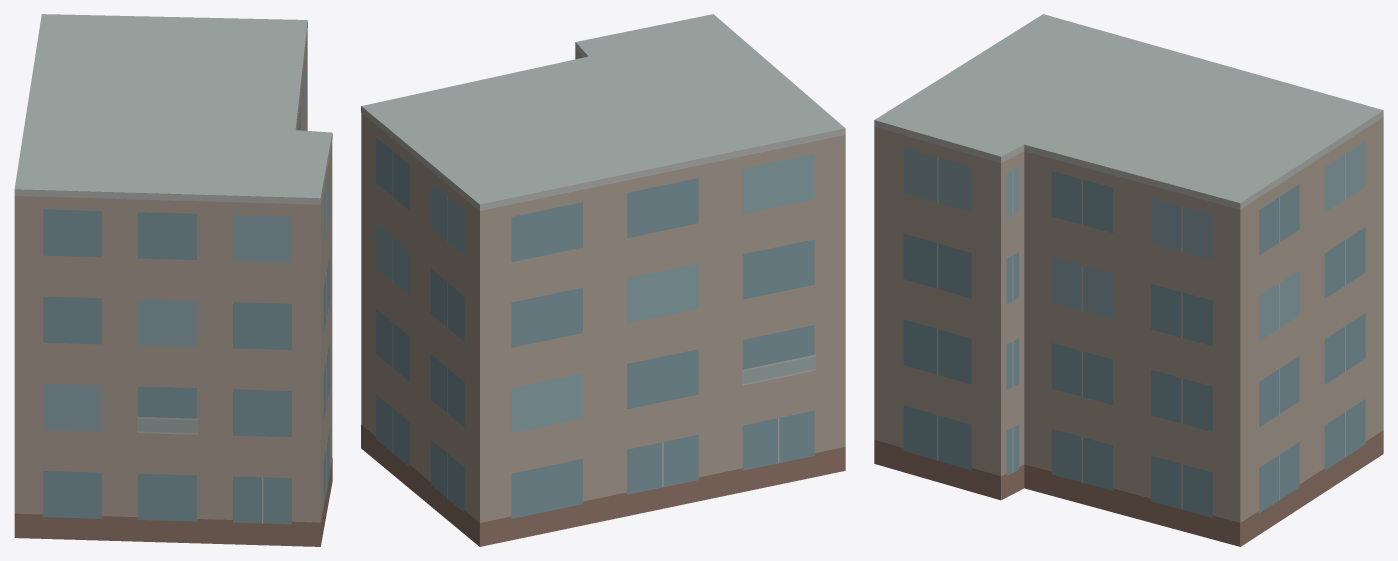
File: survey-upis-32974561.glb
The picture shows the model from 3 angles, left to right: view 1: azimuth 30°, elevation 25°; view 2: azimuth 150°, elevation 25°; view 3: azimuth 270°, elevation 25°; orthographic projection.
Visible parts, largest first — view 1: survey-upis-32974561.tmp; view 2: survey-upis-32974561.tmp; view 3: survey-upis-32974561.tmp.
Boxes of the visible parts, box(x1,y1,x2,y2) form: survey-upis-32974561.tmp: box(14, 14, 332, 546); survey-upis-32974561.tmp: box(361, 14, 845, 546); survey-upis-32974561.tmp: box(874, 14, 1383, 546).
Bounding box in the file's own units: 15.18 × 12.85 × 17.27.
